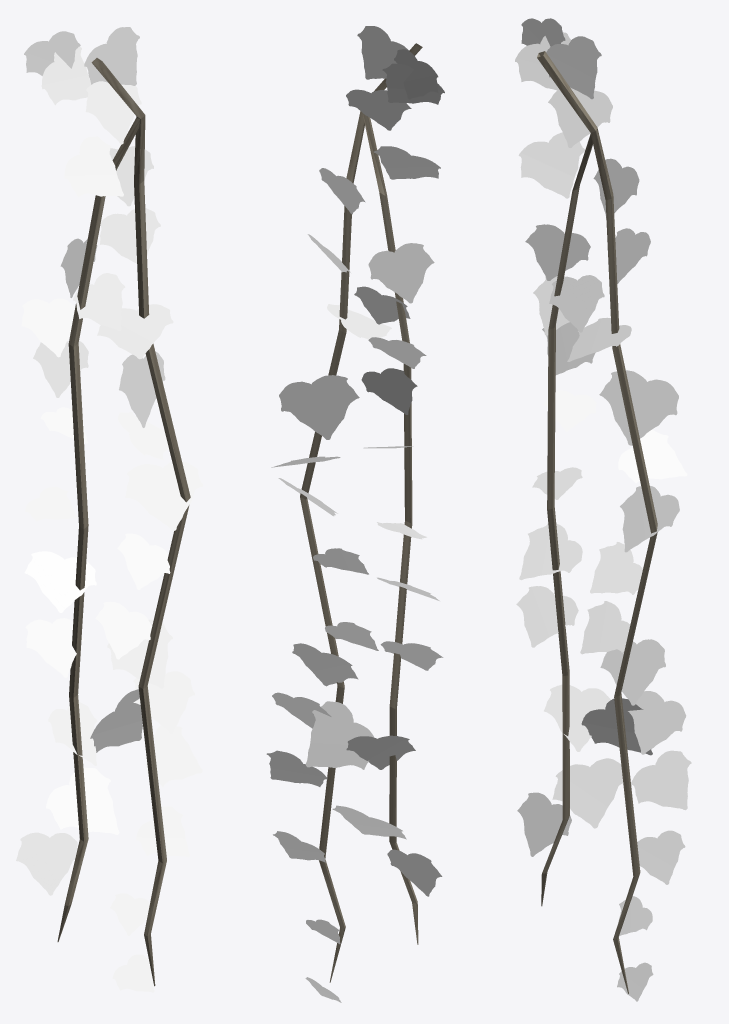
Rendered from Ivy_A_03.fbx.
The picture shows the model from 3 angles, left to right: view 1: azimuth 30°, elevation 25°; view 2: azimuth 150°, elevation 25°; view 3: azimuth 330°, elevation 25°; orthographic projection. The views are drawn at different scales.
Parts seen in each view (by area): view 1: Ivy_A_03; view 2: Ivy_A_03; view 3: Ivy_A_03.
Boxes of the visible parts, x1,y1,x2,y2 form: Ivy_A_03: [16, 27, 203, 992]; Ivy_A_03: [266, 26, 444, 1002]; Ivy_A_03: [515, 18, 691, 1001].
Bounding box in the file's own units: 89.54 × 409 × 51.83.
2 materials, 2 textured.
